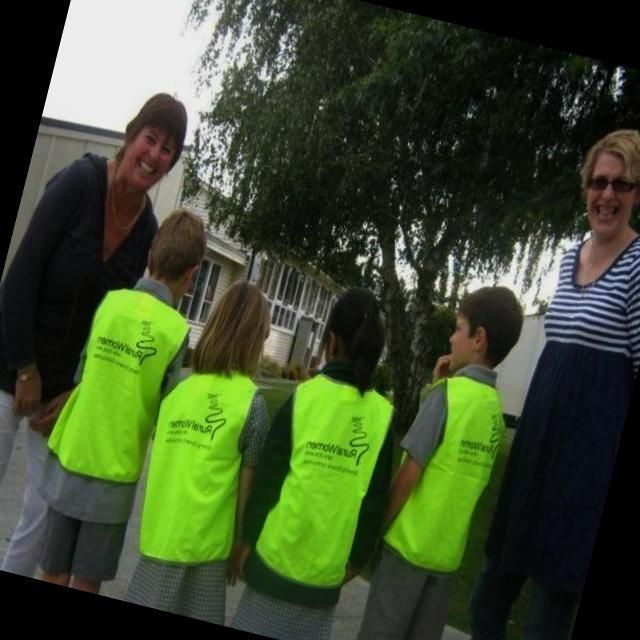vest: (30, 266, 216, 551), (368, 360, 522, 630)
